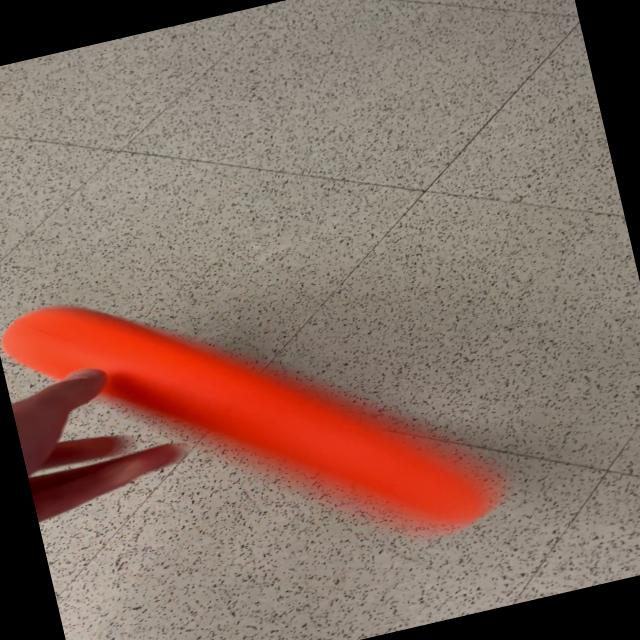note: (0, 211, 520, 625)
